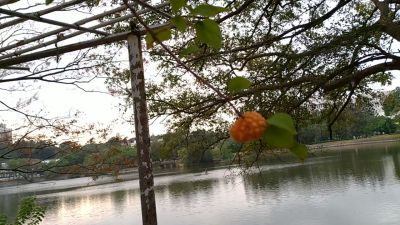eggs: (232, 110, 266, 142)
